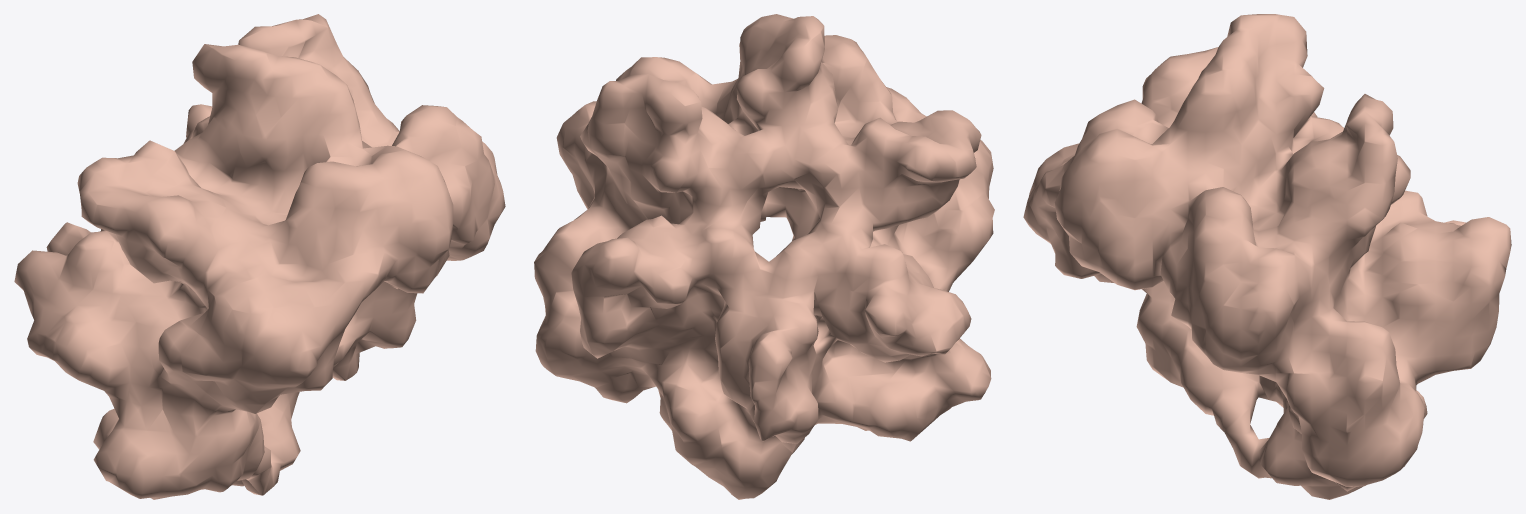
Rendered from HIV1_CAhex_0_1_2.dae.
3 views of the same model, side by side, from view 1: azimuth 30°, elevation 25°; view 2: azimuth 150°, elevation 25°; view 3: azimuth 270°, elevation 25° (orthographic). The views are drawn at different scales.
Parts seen in each view (by area): view 1: CoarseMS_1VU4CtoH_hex; view 2: CoarseMS_1VU4CtoH_hex; view 3: CoarseMS_1VU4CtoH_hex.
Boxes of the visible parts, x1,y1,x2,y2 form: CoarseMS_1VU4CtoH_hex: [14, 14, 505, 499]; CoarseMS_1VU4CtoH_hex: [534, 14, 994, 499]; CoarseMS_1VU4CtoH_hex: [1023, 14, 1511, 499].
Size of the model in its own units: 107 by 110 by 104.
